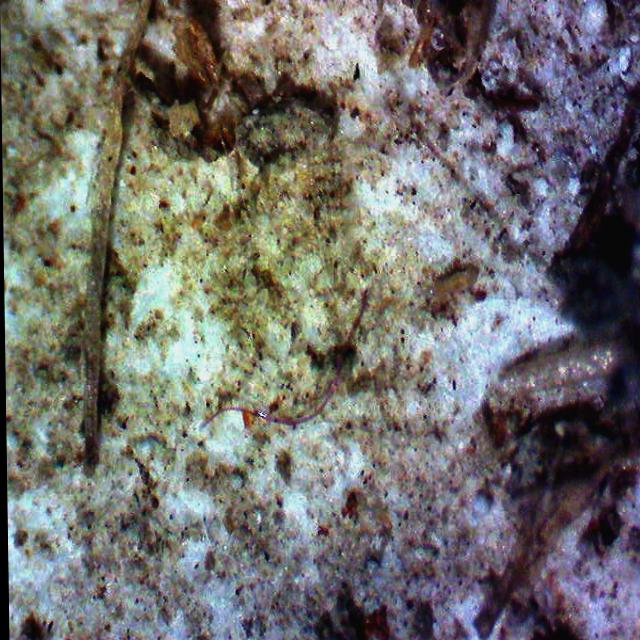microplastic: (200, 281, 407, 479)
